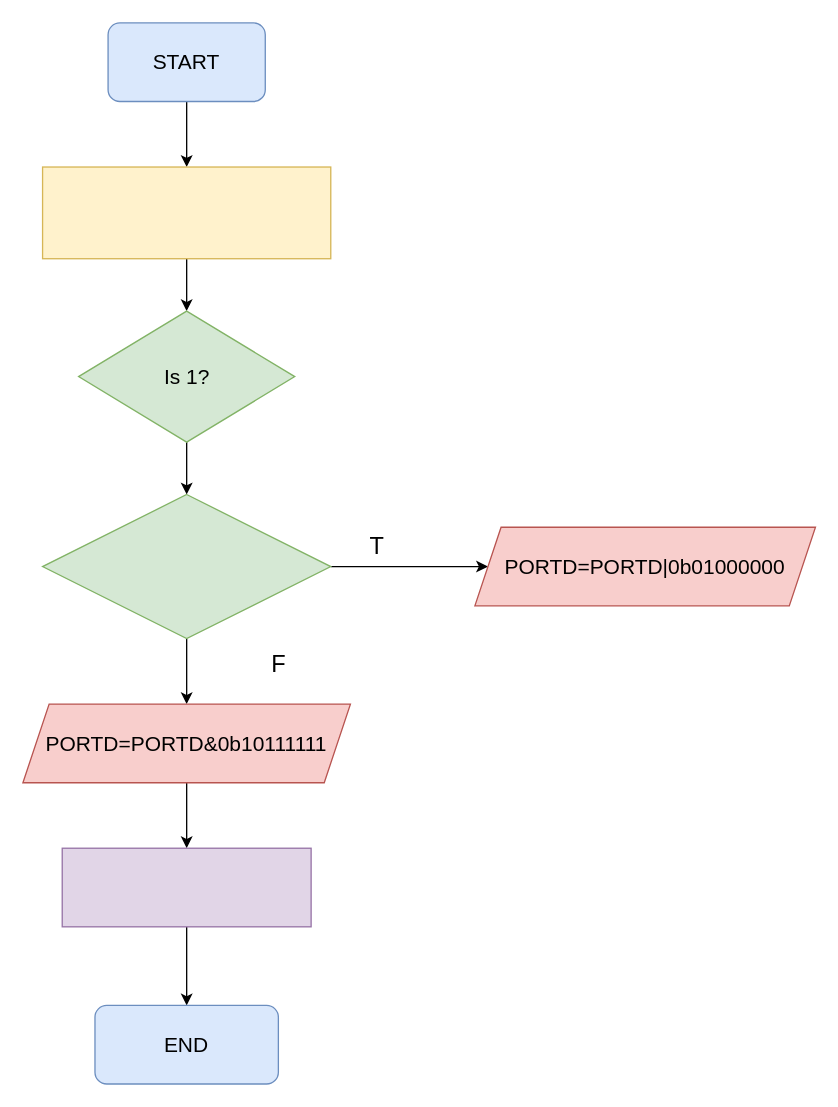
Image size: 838x1107. Some labels were removed from this diagram. The centre of each missing label's shape, as x and y in pixels:
"DDRB=DDRB&0b11111101 DDRD=DDRD|0b01000000" belongs at (186,212).
"If(PINB & 0b00000010)" belongs at (186,566).
"RETURN 0" belongs at (186,887).
